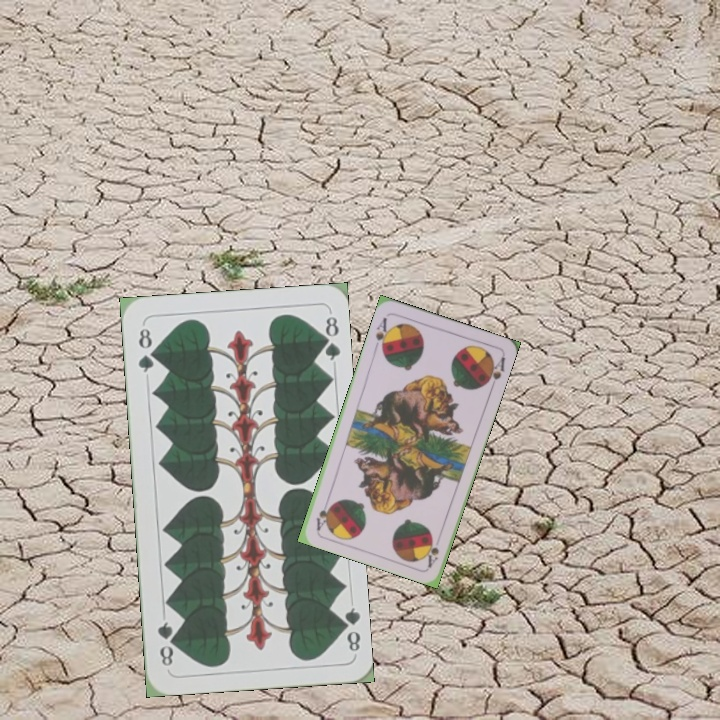G8: (334, 603, 363, 654), (134, 324, 158, 375)
SA: (372, 313, 393, 354), (422, 534, 442, 569)
